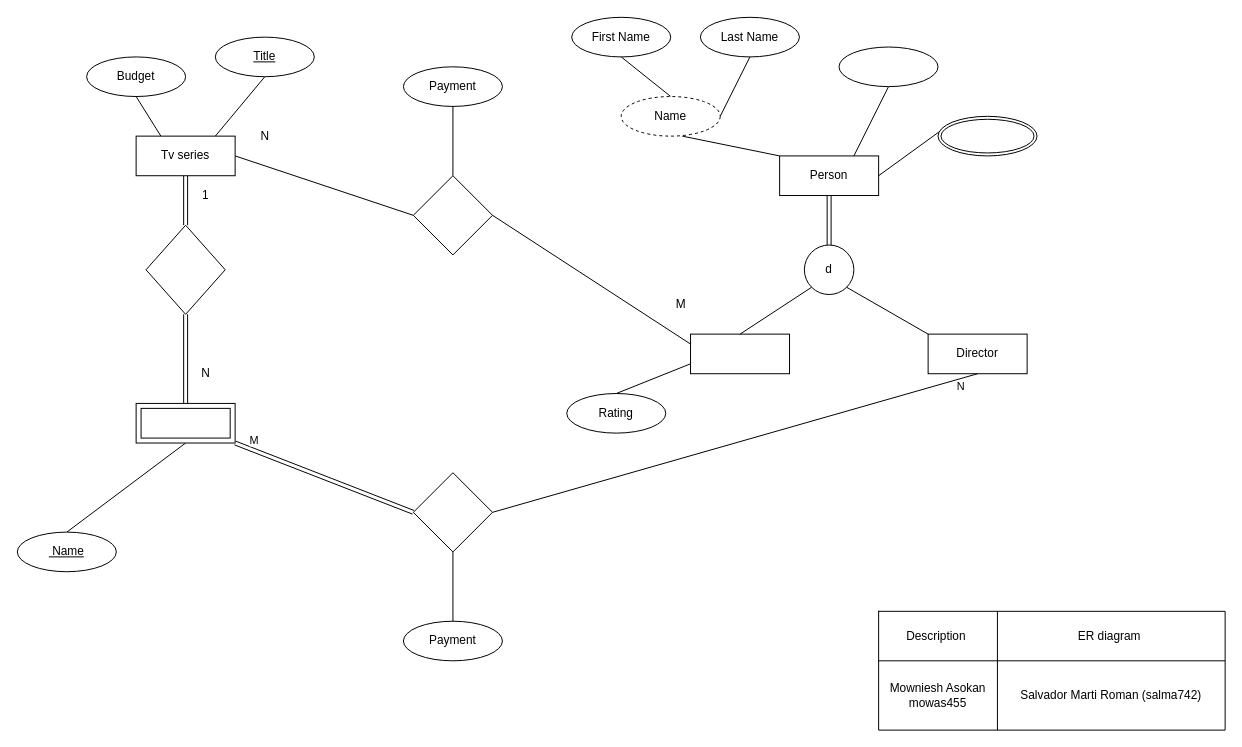
Image size: 1242x747. Some labels were removed from this diagram. The centre of each missing label's shape, as x and y in pixels:
Actor: [740,353]
Contains: [185,269]
Directs: [452,512]
Episode: [185,422]
Nick name: [987,135]
P-number: [888,66]
Participates in: [452,215]
